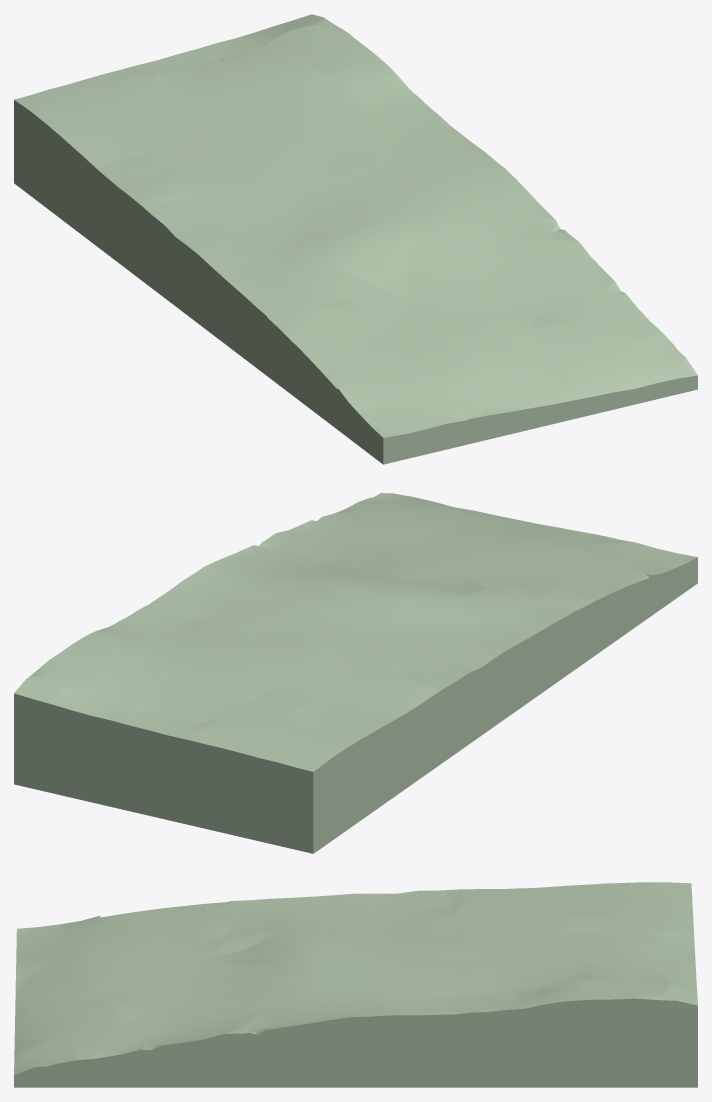
3 views of the same model, one above another, from view 1: azimuth 30°, elevation 25°; view 2: azimuth 150°, elevation 25°; view 3: azimuth 270°, elevation 25° (orthographic). The views are drawn at different scales.
Parts seen in each view (by area): view 1: FD-L12-GND-EXISTING; view 2: FD-L12-GND-EXISTING; view 3: FD-L12-GND-EXISTING.
Boxes of the visible parts, x1,y1,x2,y2 form: FD-L12-GND-EXISTING: [14, 14, 697, 464]; FD-L12-GND-EXISTING: [14, 493, 697, 853]; FD-L12-GND-EXISTING: [14, 882, 697, 1087].
Bounding box in the file's own units: 18.55 × 5.7 × 39.63.
